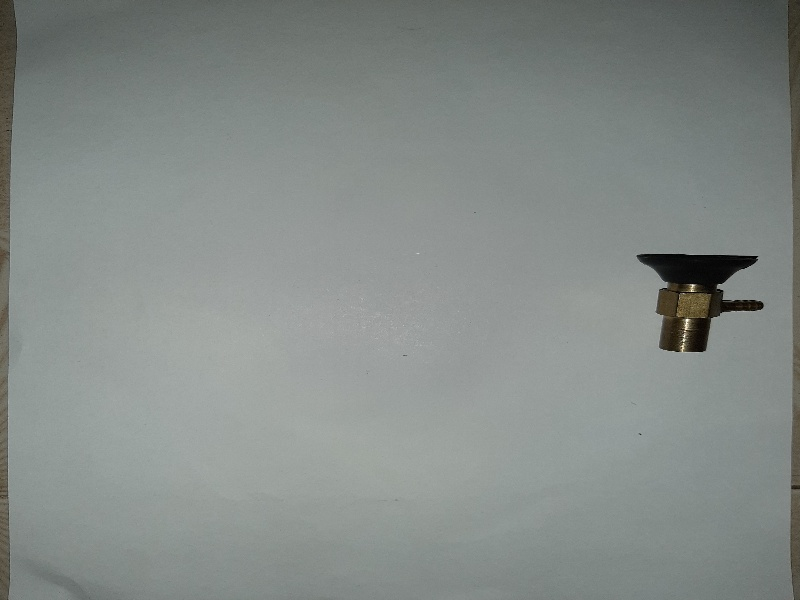Joint Hold: (631, 234, 769, 361)
